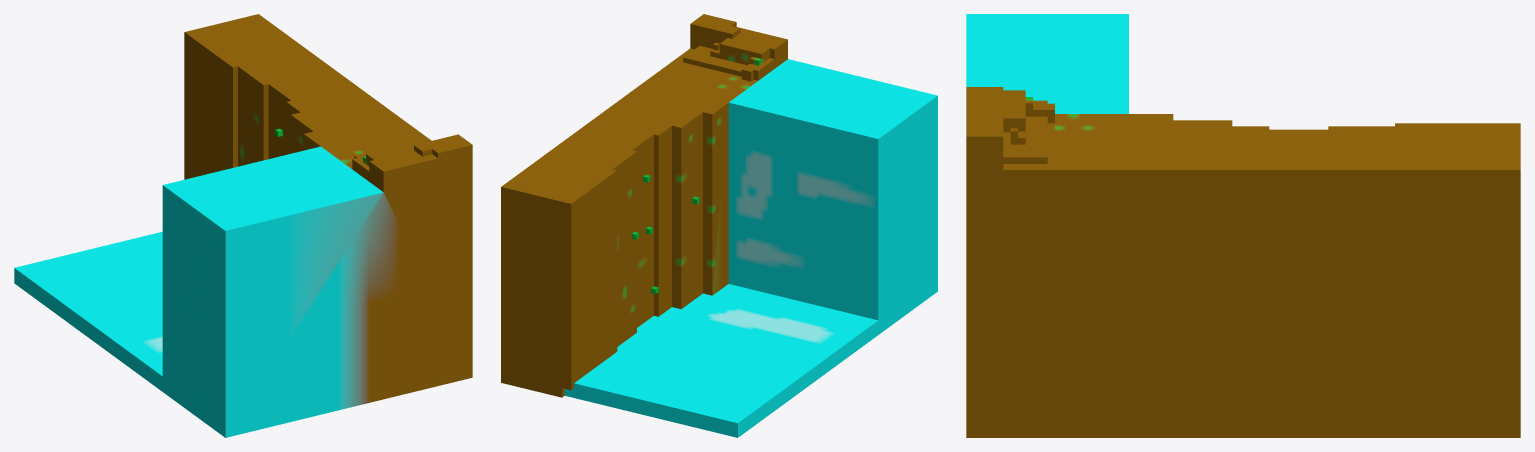
The model's file is cliffRight.dae.
3 renders of one model, left to right at view 1: azimuth 30°, elevation 25°; view 2: azimuth 150°, elevation 25°; view 3: azimuth 270°, elevation 25°, orthographic. The views are drawn at different scales.
Parts seen in each view (by area): view 1: cliffRight; view 2: cliffRight; view 3: cliffRight.
Part boxes in pixels (x1=…): cliffRight: x1=14, y1=14, x2=472, y2=437; cliffRight: x1=501, y1=14, x2=937, y2=437; cliffRight: x1=966, y1=14, x2=1520, y2=437.
Size of the model in its own units: 5 by 7.5 by 4.5.
1 material, 1 textured.
